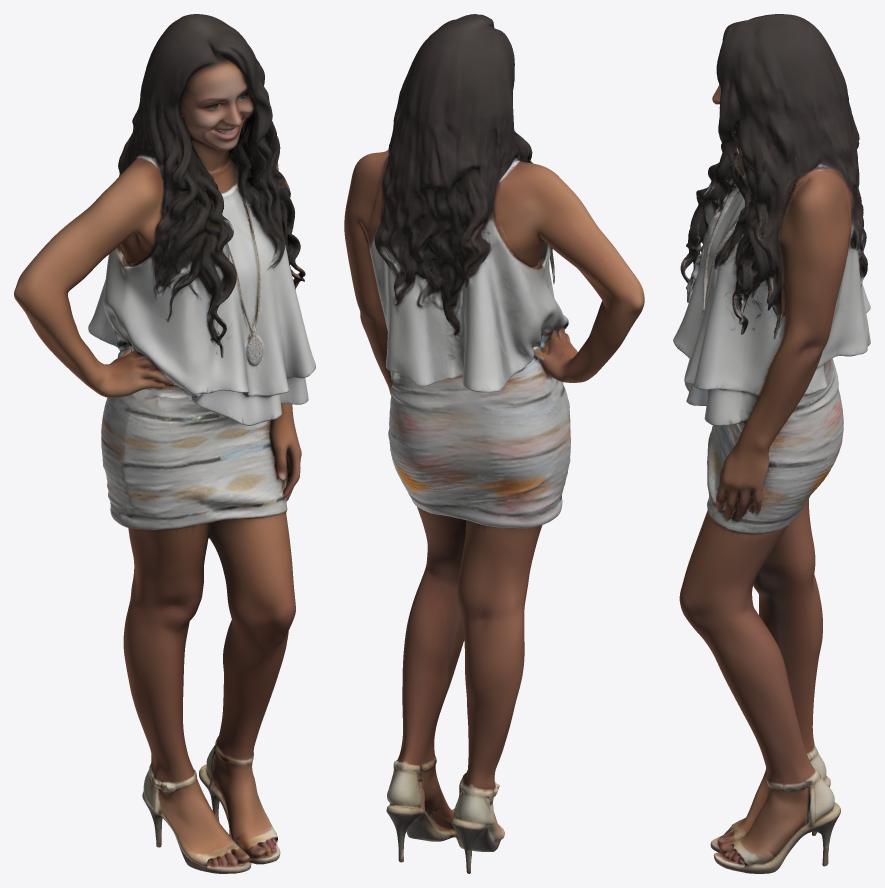
The model's file is outfit.glb.
3 views of the same model, side by side, from view 1: azimuth 30°, elevation 25°; view 2: azimuth 150°, elevation 25°; view 3: azimuth 270°, elevation 25° (orthographic).
Parts seen in each view (by area): view 1: Mesh_0; view 2: Mesh_0; view 3: Mesh_0.
Boxes of the visible parts, left/top/right/bottom form: Mesh_0: left=14, top=14, right=315, bottom=873; Mesh_0: left=344, top=14, right=644, bottom=873; Mesh_0: left=673, top=14, right=870, bottom=873.
Bounding box in the file's own units: 0.6607 × 1.9 × 0.4097.
1 material, 1 textured.
